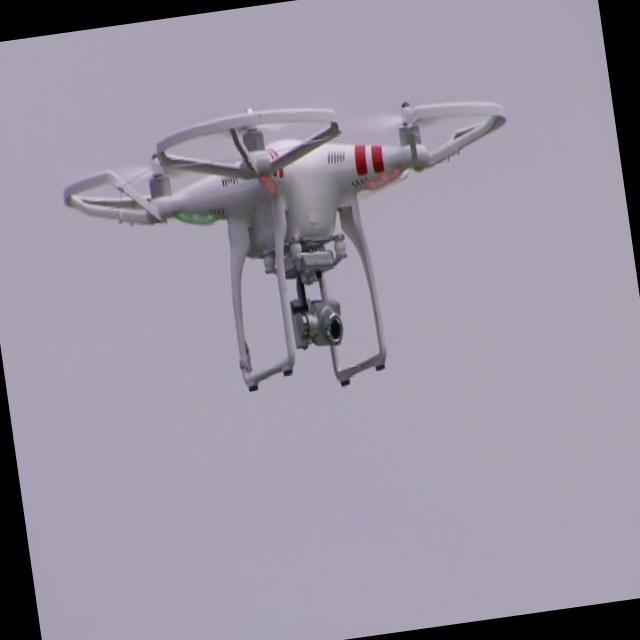drone: (53, 68, 541, 424)
